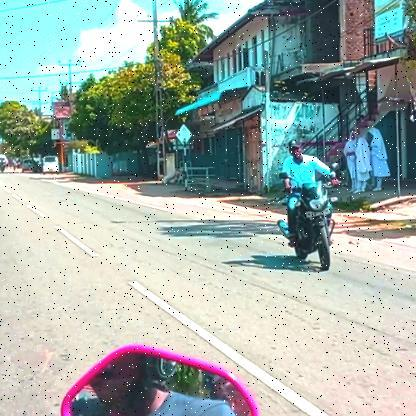motorcycle: (275, 180, 345, 274)
